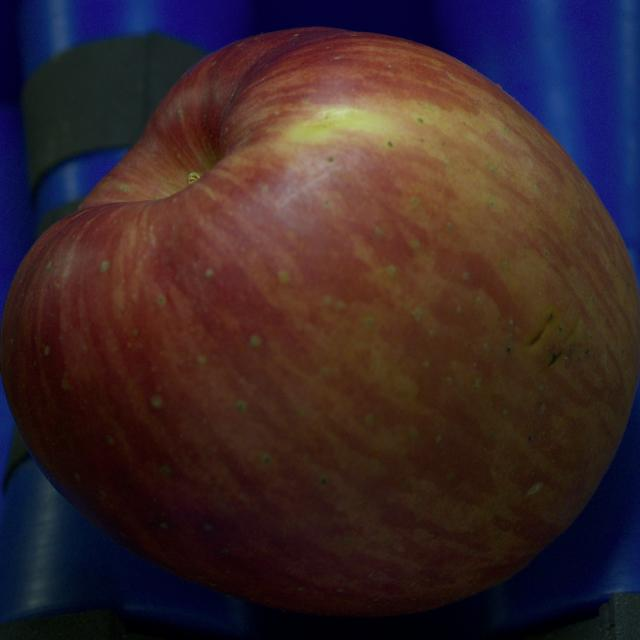apple: (0, 28, 639, 615)
scratch: (529, 314, 552, 345), (549, 352, 559, 365)
